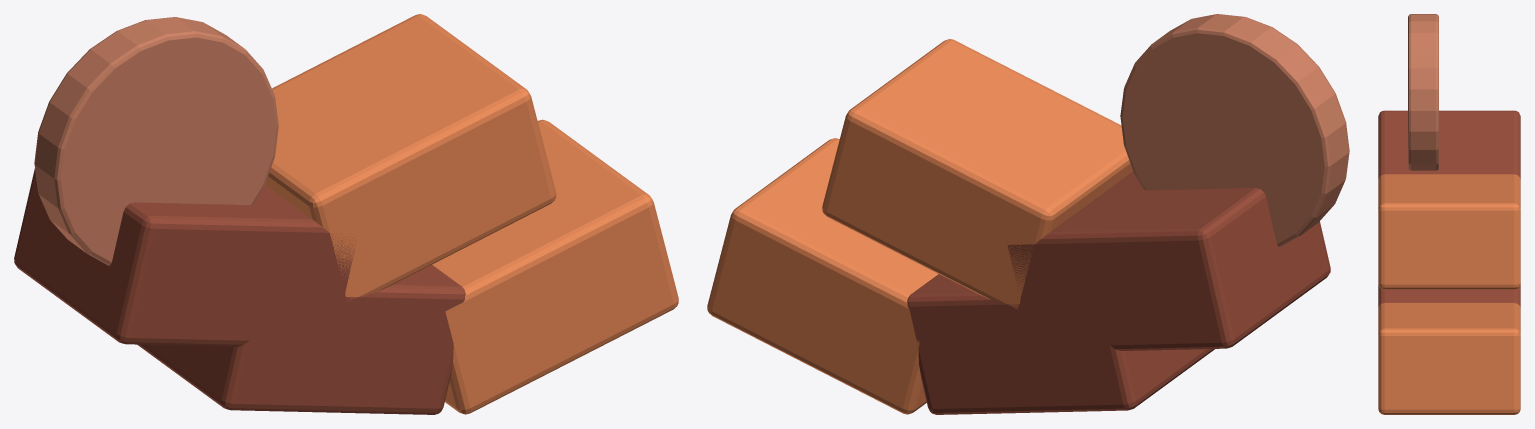
The model's file is SM_ScrapPile.fbx.
3 views of the same model, side by side, from view 1: azimuth 30°, elevation 25°; view 2: azimuth 150°, elevation 25°; view 3: azimuth 270°, elevation 25° (orthographic). The views are drawn at different scales.
Visible parts, largest first — view 1: SM_ScrapPile; view 2: SM_ScrapPile; view 3: SM_ScrapPile.
Boxes of the visible parts, left/top/right/bottom form: SM_ScrapPile: left=14, top=14, right=678, bottom=414; SM_ScrapPile: left=707, top=14, right=1349, bottom=414; SM_ScrapPile: left=1378, top=14, right=1520, bottom=414.
Size of the model in its own units: 172 by 55 by 118.
